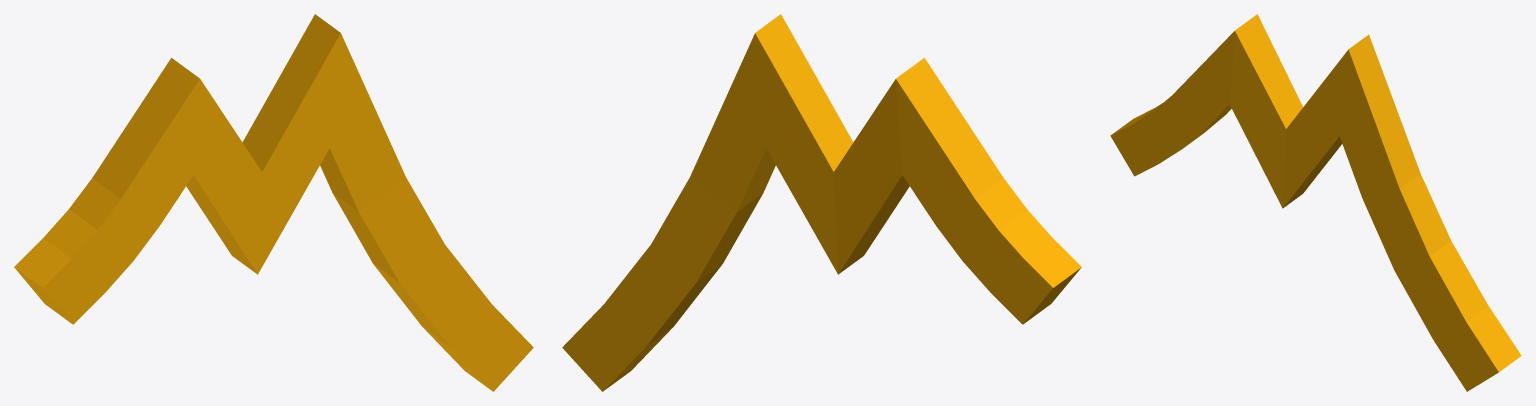
Rendered from part_alternation_mark.glb.
3 renders of one model, left to right at view 1: azimuth 30°, elevation 25°; view 2: azimuth 150°, elevation 25°; view 3: azimuth 330°, elevation 25°, orthographic. The views are drawn at different scales.
Visible parts, largest first — view 1: Cube.6464; view 2: Cube.6464; view 3: Cube.6464.
Boxes of the visible parts, left/top/right/bottom form: Cube.6464: left=14, top=14, right=533, bottom=391; Cube.6464: left=562, top=14, right=1081, bottom=391; Cube.6464: left=1110, top=14, right=1521, bottom=391.
Bounding box in the file's own units: 2.13 × 1.64 × 0.2153.
1 material, 1 textured.
